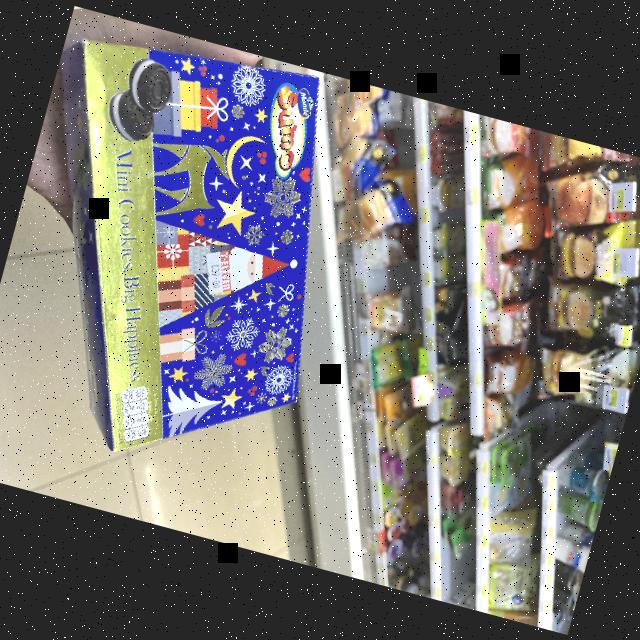cardboard_box: (0, 12, 394, 504)
